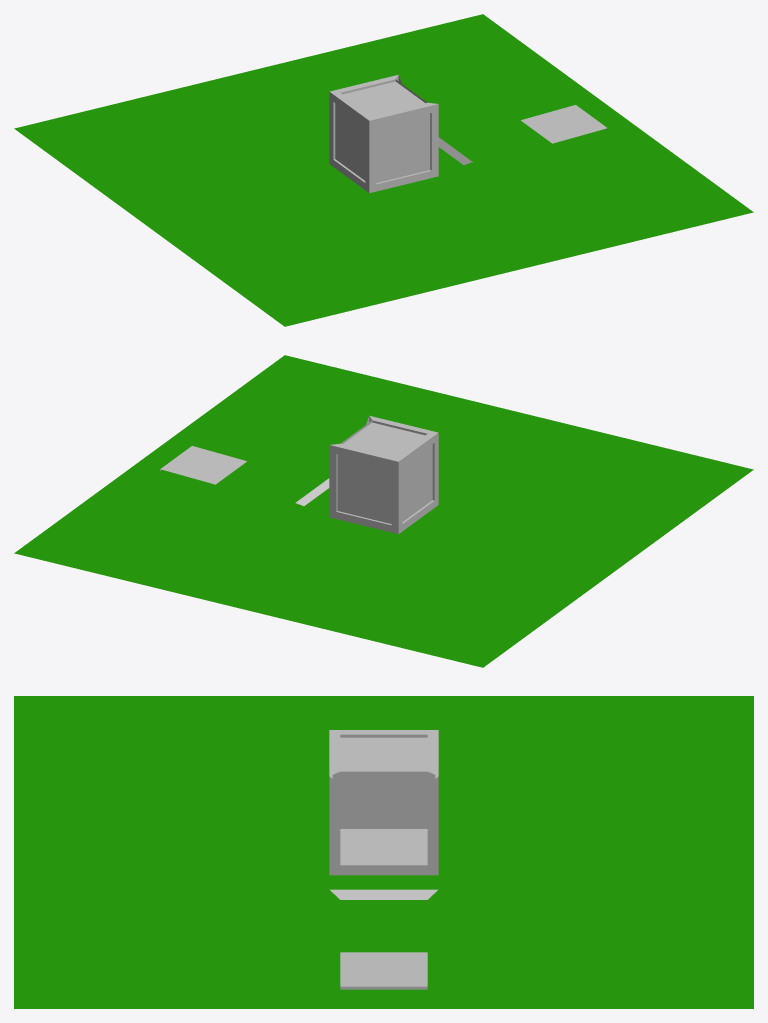
File: caixa_000150.obj
The picture shows the model from 3 angles, top to bottom: view 1: azimuth 30°, elevation 25°; view 2: azimuth 150°, elevation 25°; view 3: azimuth 270°, elevation 25°; orthographic projection. The views are drawn at different scales.
Parts seen in each view (by area): view 1: Plane, Cube_Cube.003, Cube.002_Cube.001; view 2: Plane, Cube_Cube.003, Cube.002_Cube.001; view 3: Plane, Cube_Cube.003, Cube.002_Cube.001, Cube.001_Cube.000.
Boxes of the visible parts, left/top/right/bottom form: Plane: left=14, top=14, right=753, bottom=326; Cube_Cube.003: left=329, top=74, right=438, bottom=193; Cube.002_Cube.001: left=521, top=105, right=607, bottom=143; Plane: left=14, top=355, right=753, bottom=667; Cube_Cube.003: left=329, top=415, right=438, bottom=534; Cube.002_Cube.001: left=160, top=446, right=246, bottom=484; Plane: left=14, top=696, right=753, bottom=1008; Cube_Cube.003: left=329, top=730, right=438, bottom=875; Cube.002_Cube.001: left=340, top=952, right=427, bottom=989; Cube.001_Cube.000: left=330, top=889, right=437, bottom=899.
Size of the model in its own units: 13.55 by 2.01 by 13.55.
